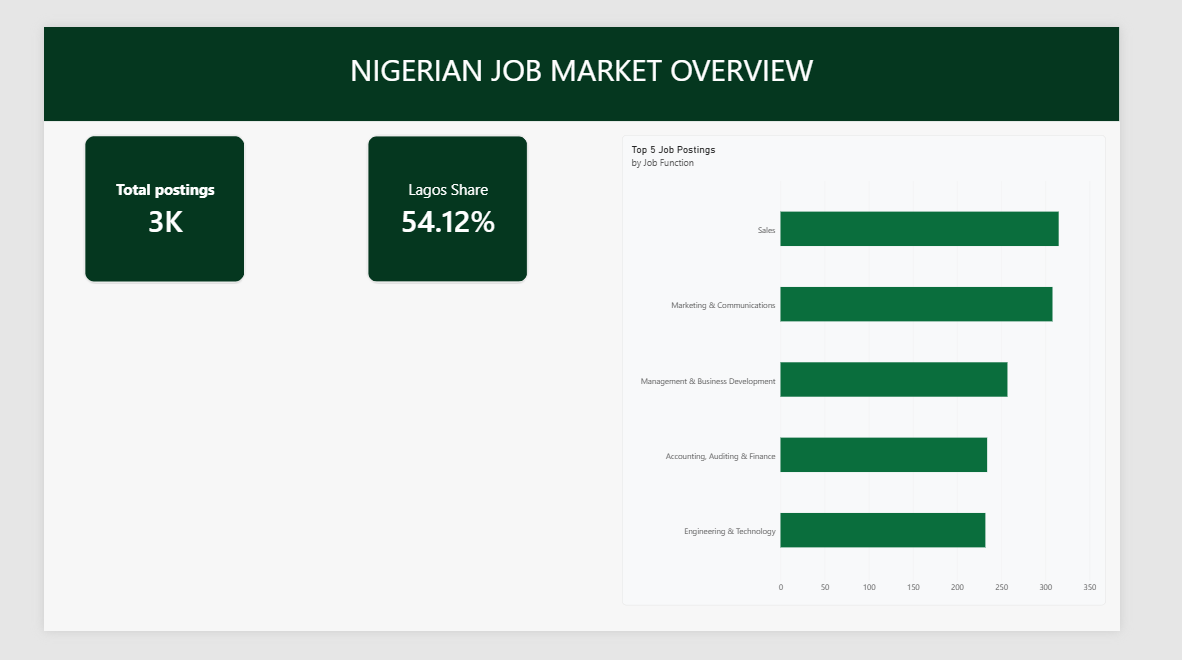

This screenshot's page, from the dashboard's own definition file:
{"tool":"powerbi","page":{"name":"Overview","canvas":[1920,1080],"ordinal":0},"visuals":[{"type":"cardVisual","fields":{"Data":["CountNonNull(public job_postings.job_url)"]},"box":[72,192,288,264],"z":0},{"type":"cardVisual","fields":{"Data":["public job_postings.Lagos Share"]},"box":[576,192,288,264],"z":1000},{"type":"barChart","fields":{"Category":["public job_postings.job_function"],"Y":["CountNonNull(public job_postings.job_url)"]},"box":[1032,192,864,840],"z":2000},{"type":"textbox","box":[0,0,1920,168],"z":3000}]}

Visuals, with their boxes in screenshot pixels (x1, y1, x2, y2), scaled from the page's 1920x1080 canvas onto the 1182x660 screenshot:
cardVisual - CountNonNull(public job_postings.job_url): (x1=44, y1=117, x2=222, y2=279)
cardVisual - public job_postings.Lagos Share: (x1=355, y1=117, x2=532, y2=279)
barChart - public job_postings.job_function x CountNonNull(public job_postings.job_url): (x1=635, y1=117, x2=1167, y2=631)
textbox: (x1=0, y1=0, x2=1181, y2=103)
